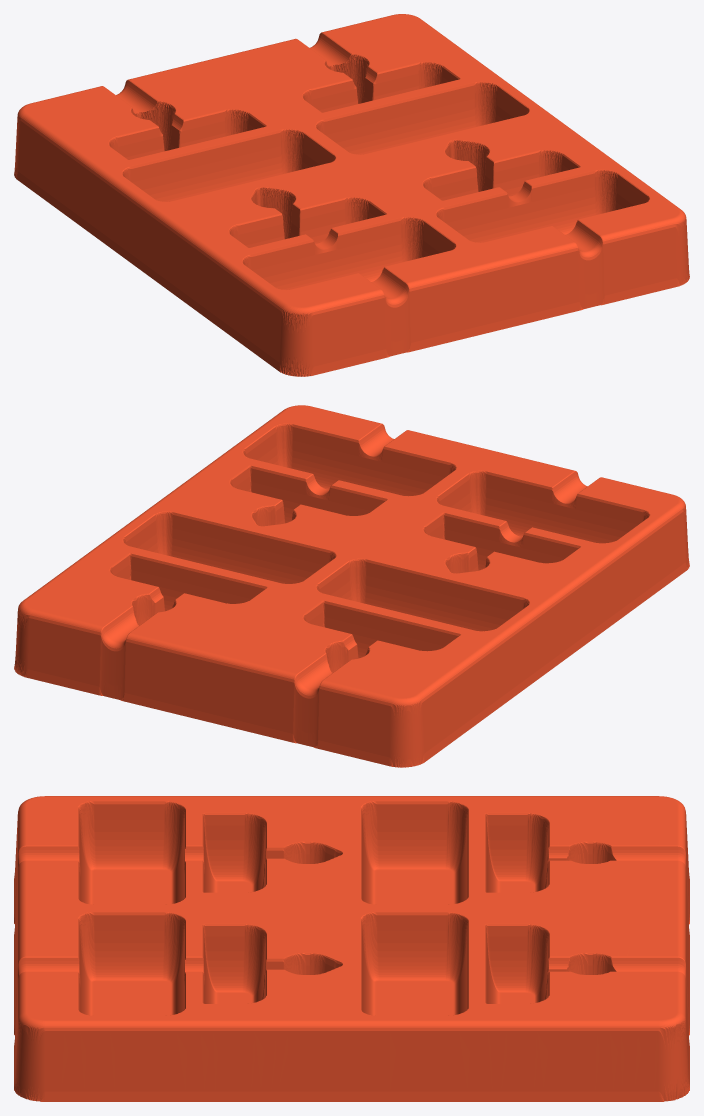
Rendered from mold.glb.
3 views of the same model, one above another, from view 1: azimuth 30°, elevation 25°; view 2: azimuth 150°, elevation 25°; view 3: azimuth 270°, elevation 25° (orthographic). The views are drawn at different scales.
Parts seen in each view (by area): view 1: geometry_0; view 2: geometry_0; view 3: geometry_0.
Part boxes in pixels (x1,y1,x2,y2): geometry_0: [14, 14, 689, 376]; geometry_0: [14, 405, 689, 767]; geometry_0: [14, 796, 689, 1101].
Bounding box in the file's own units: 0.1611 × 0.0245 × 0.1968.
